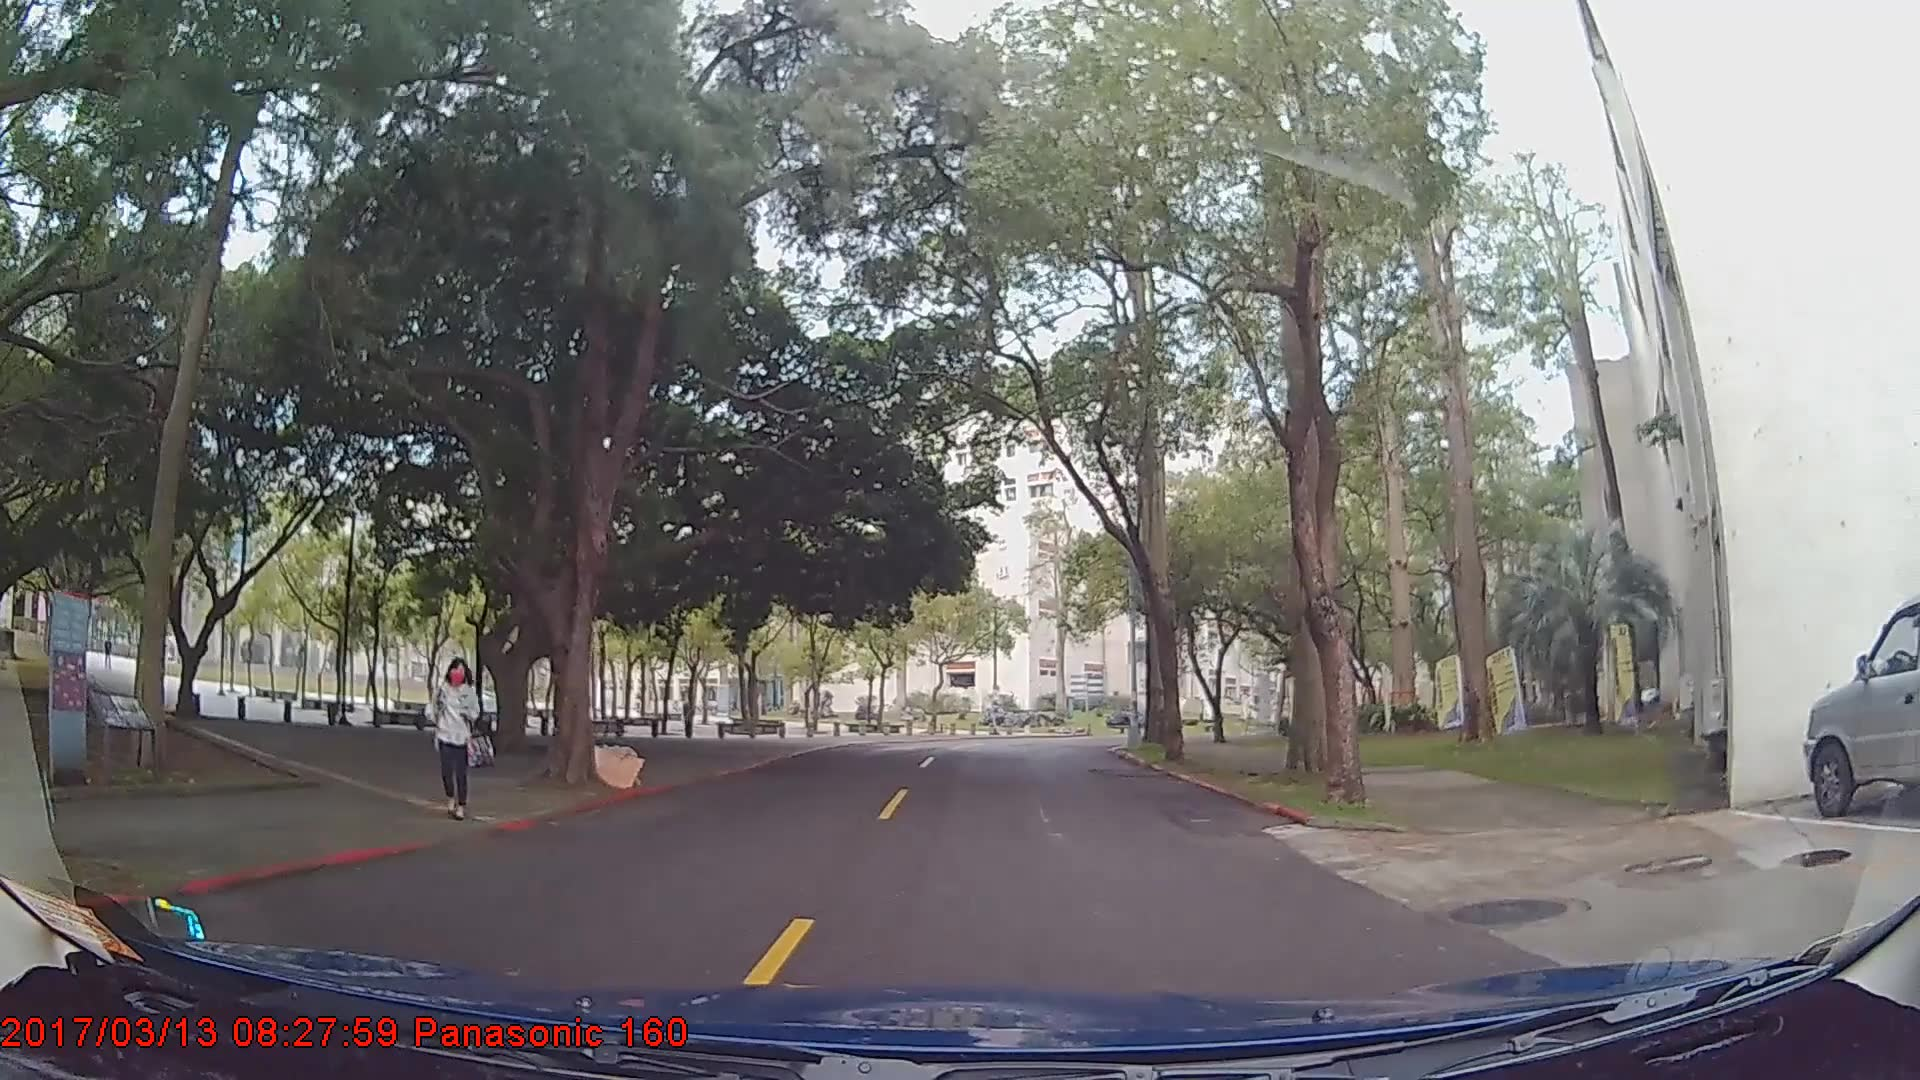pedestrian: (425, 657, 497, 822)
vehicle: (1803, 590, 1920, 820)
